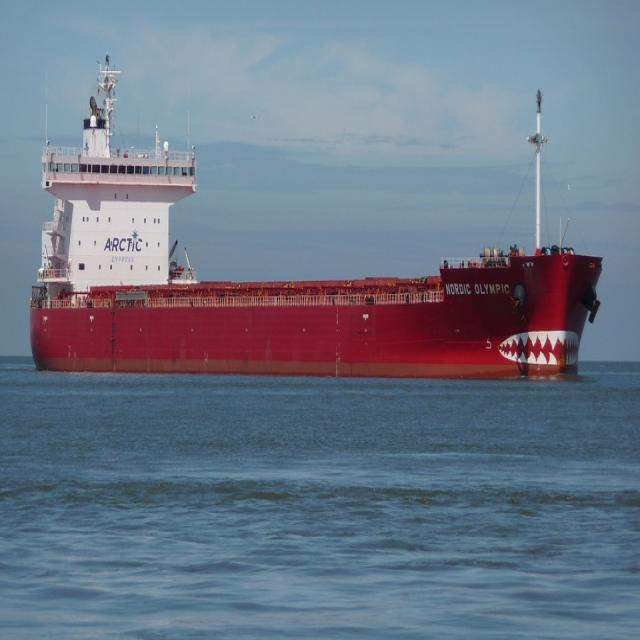Tanker: (30, 56, 601, 376)
